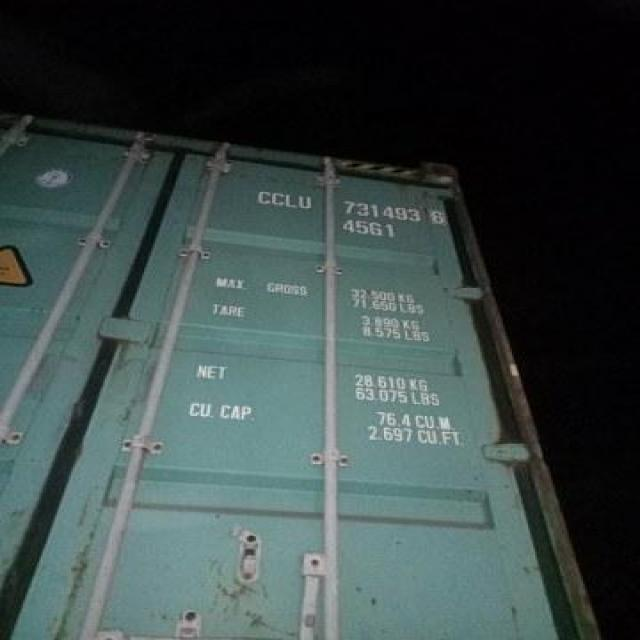container_number_h: (221, 165, 487, 260)
